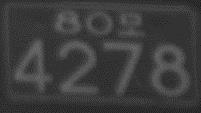0: (86, 9, 114, 37)
2: (58, 39, 98, 95)
4: (13, 38, 53, 94)
7: (102, 40, 144, 94)
8: (149, 42, 191, 98), (54, 8, 82, 35)
모: (117, 11, 144, 37)
